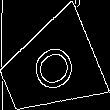O_SW: (22, 38, 78, 98)
